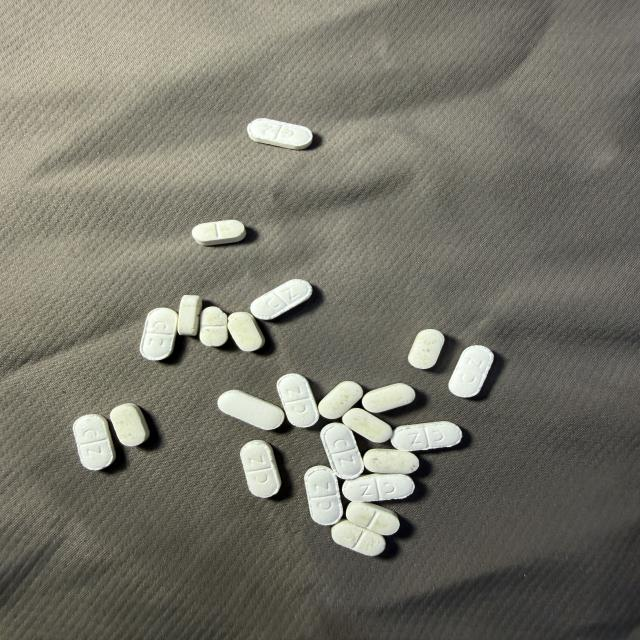pill: (218, 390, 284, 430), (250, 279, 312, 320), (321, 423, 363, 479), (240, 440, 281, 497), (73, 415, 115, 470), (304, 466, 343, 525), (449, 345, 493, 397), (277, 374, 319, 427), (391, 421, 462, 451), (248, 118, 312, 149), (140, 308, 178, 360), (343, 474, 414, 501), (332, 520, 385, 556), (346, 503, 399, 535), (110, 403, 149, 446), (343, 408, 392, 442), (319, 381, 362, 419), (362, 383, 415, 413), (408, 330, 444, 369), (228, 312, 264, 351), (364, 449, 419, 474), (192, 220, 245, 245), (200, 307, 228, 346), (178, 295, 202, 335)
